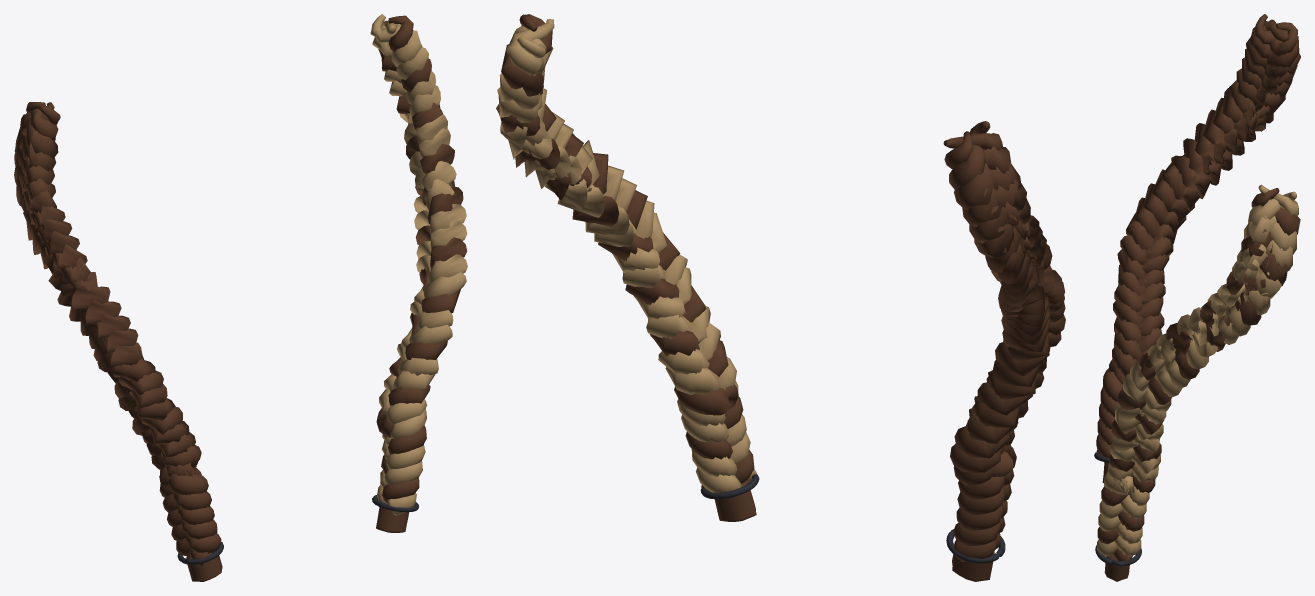
The model's file is Highlights-bb099661eed4251-hair.glb.
3 views of the same model, side by side, from view 1: azimuth 30°, elevation 25°; view 2: azimuth 150°, elevation 25°; view 3: azimuth 270°, elevation 25° (orthographic). The views are drawn at different scales.
Parts seen in each view (by area): view 1: 226 hairLengths / Hair / chestnut226, 226 hairLengths / Hair / ties226; view 2: 226 hairLengths / Hair / chestnut226, 226 hairLengths / Hair / ties226; view 3: 226 hairLengths / Hair / chestnut226, 226 hairLengths / Hair / ties226.
Part boxes in pixels (<box>): 226 hairLengths / Hair / chestnut226: <box>14,14,467,581</box>; 226 hairLengths / Hair / ties226: <box>177,495,418,564</box>; 226 hairLengths / Hair / chestnut226: <box>496,14,1065,581</box>; 226 hairLengths / Hair / ties226: <box>700,474,1005,563</box>; 226 hairLengths / Hair / chestnut226: <box>1096,14,1300,581</box>; 226 hairLengths / Hair / ties226: <box>1094,452,1141,566</box>.
Bounding box in the file's own units: 1.03 × 1.06 × 0.4591.
